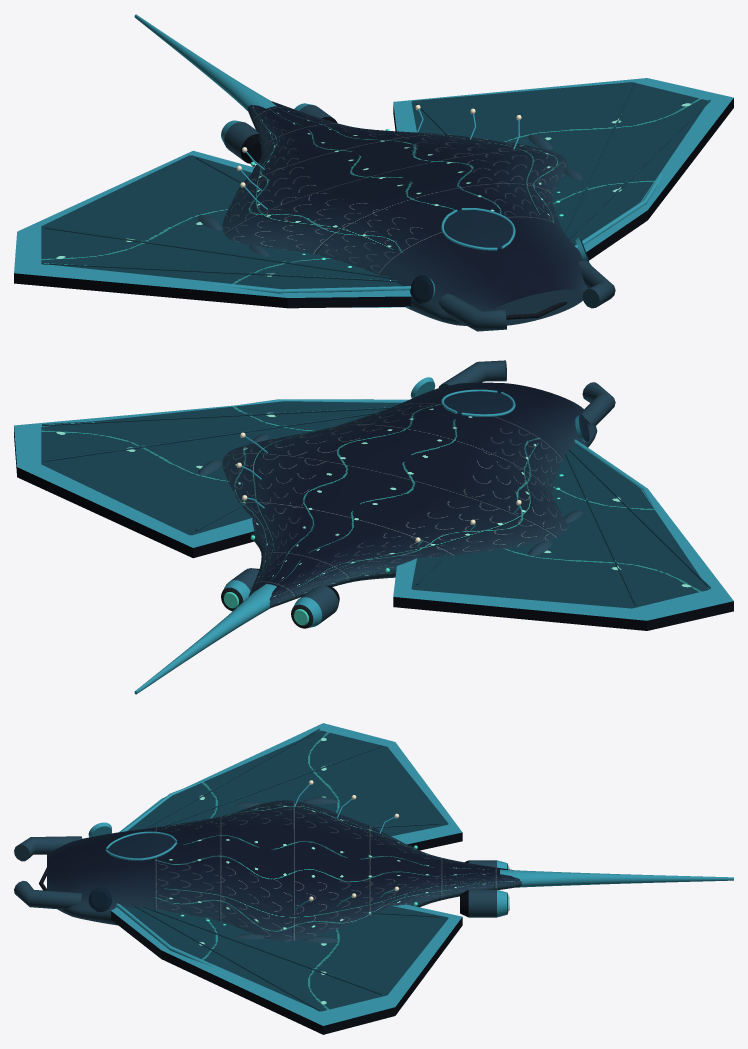
The picture shows the model from 3 angles, top to bottom: view 1: azimuth 30°, elevation 25°; view 2: azimuth 150°, elevation 25°; view 3: azimuth 270°, elevation 25°; orthographic projection. The views are drawn at different scales.
Visible parts, largest first — view 1: manta_ray_hull; view 2: manta_ray_hull; view 3: manta_ray_hull.
Part boxes in pixels (x1,y1,x2,y2): manta_ray_hull: (14,14,733,331); manta_ray_hull: (14,360,733,694); manta_ray_hull: (14,723,733,1034).
Bounding box in the file's own units: 81.66 × 9.52 × 82.
1 material, 1 textured.
